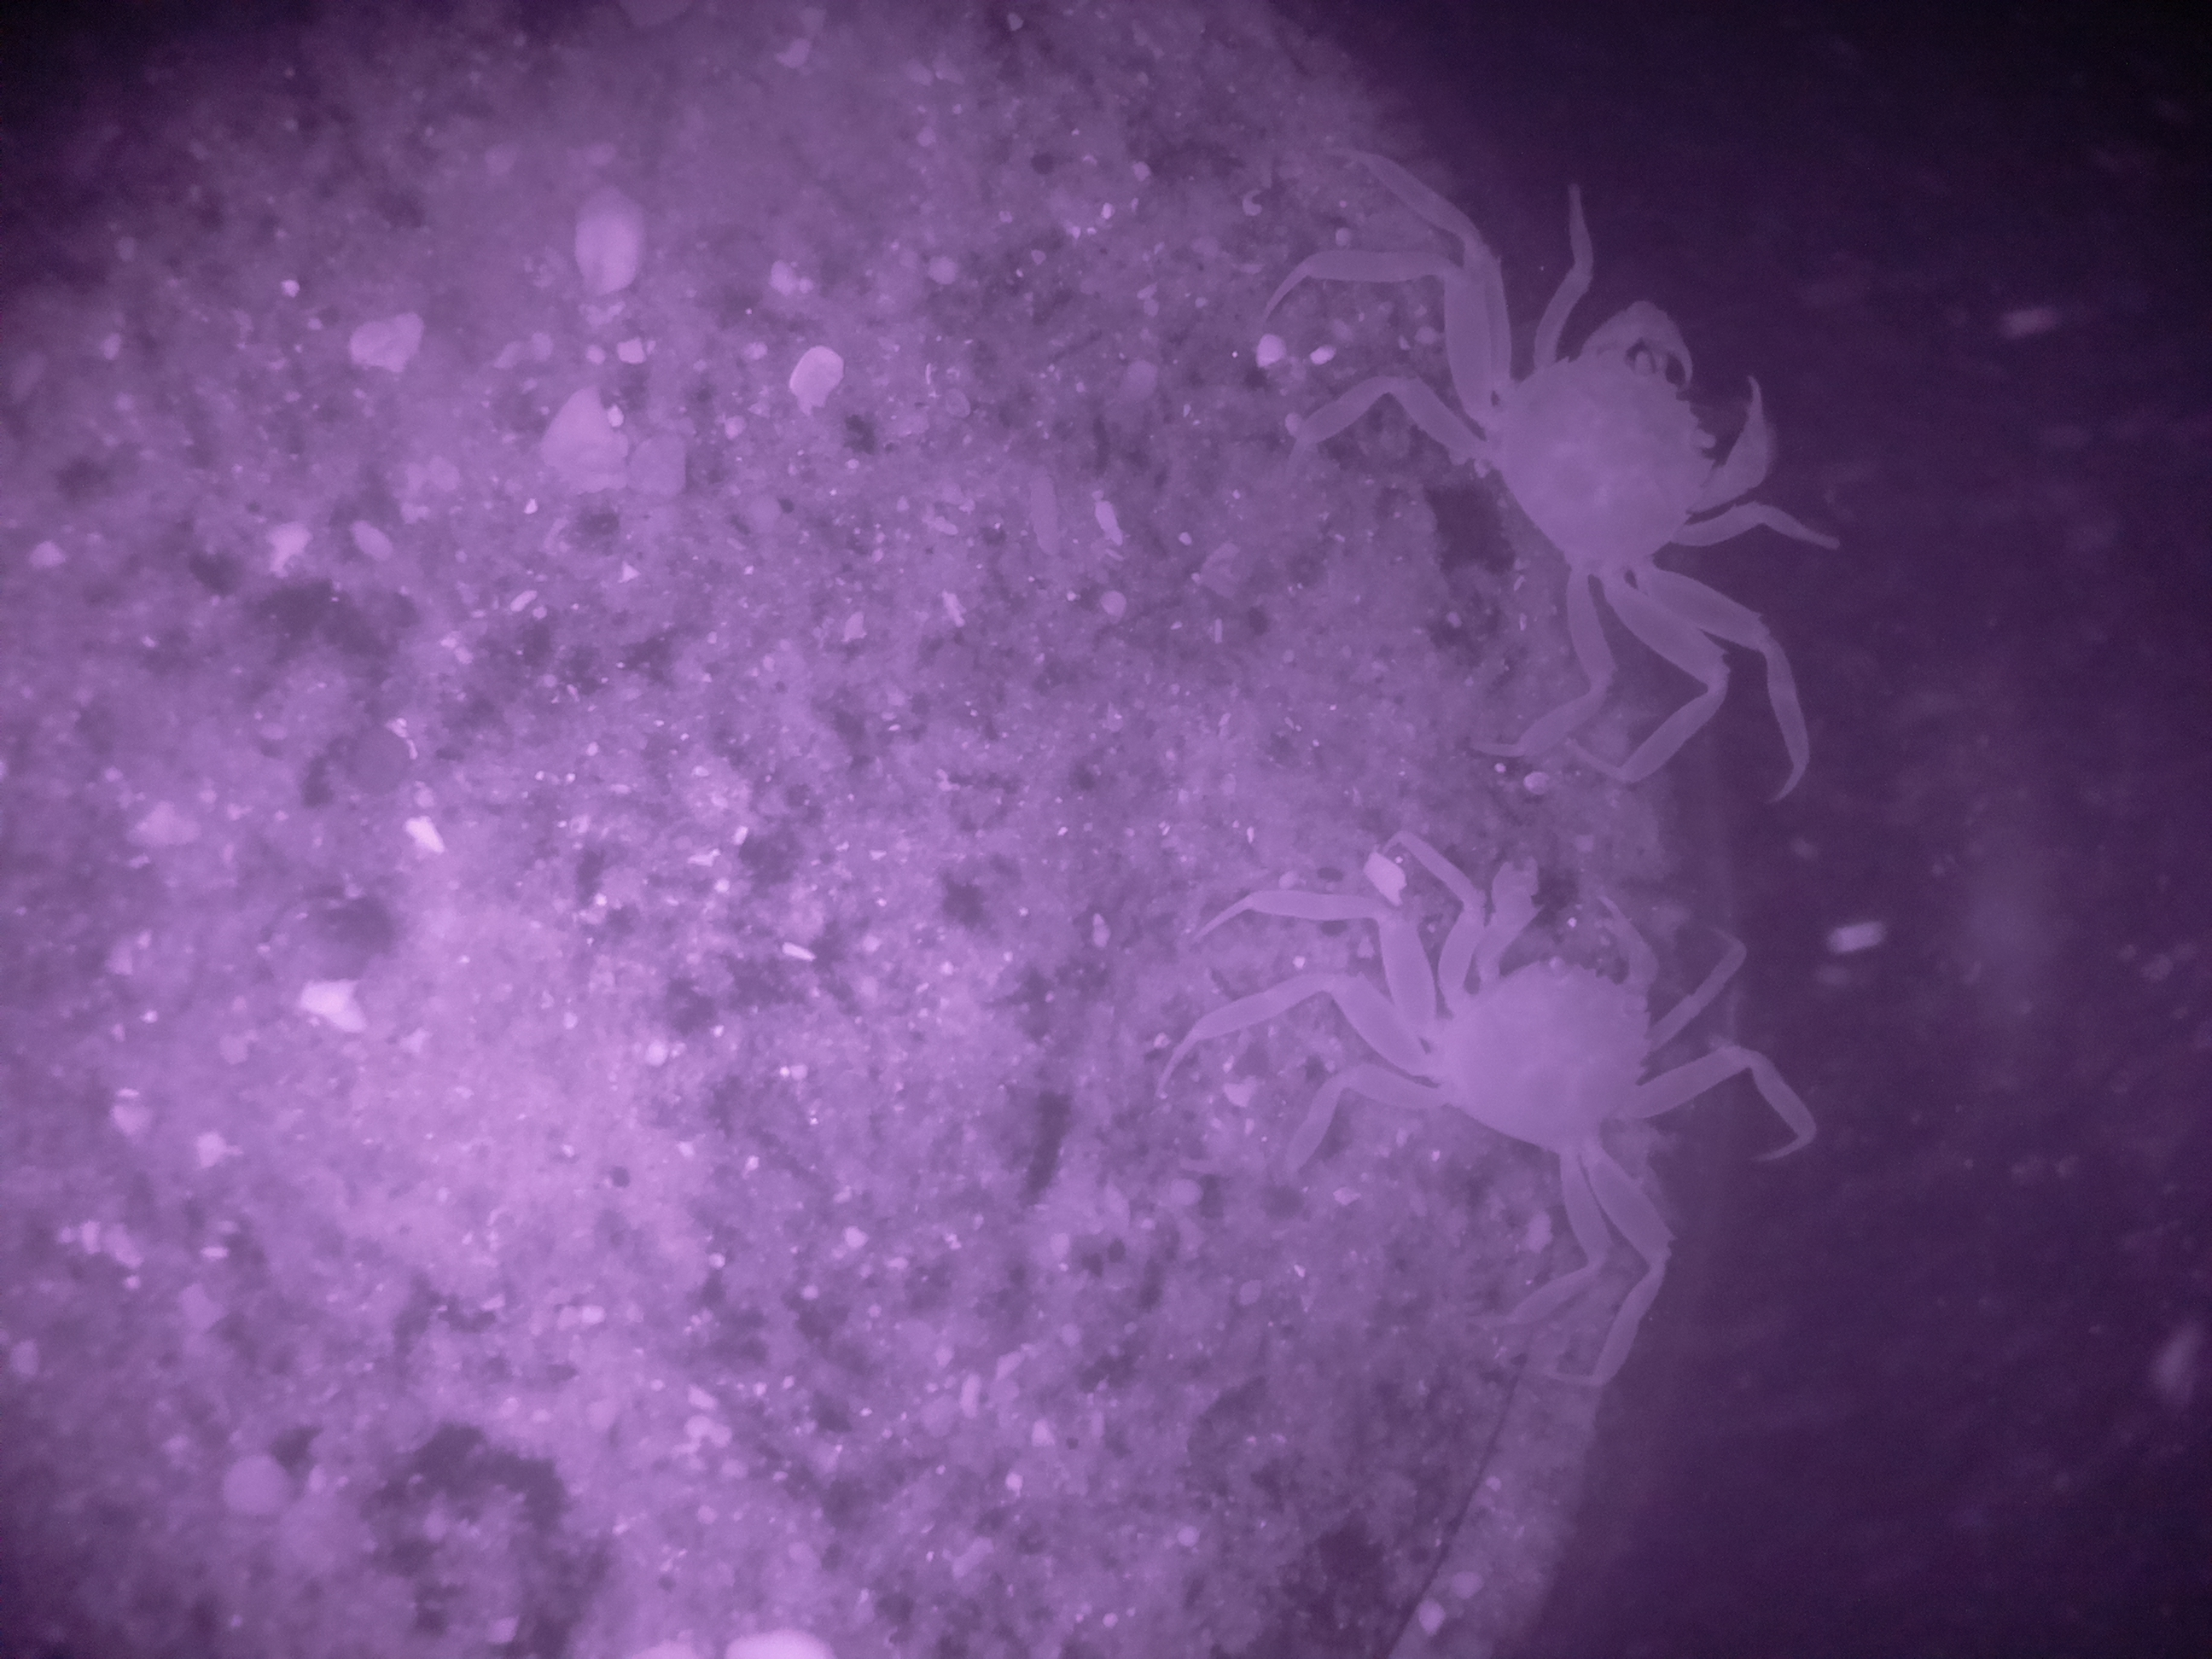Crab: (1381, 213, 1850, 676), (1305, 817, 1745, 1248)
